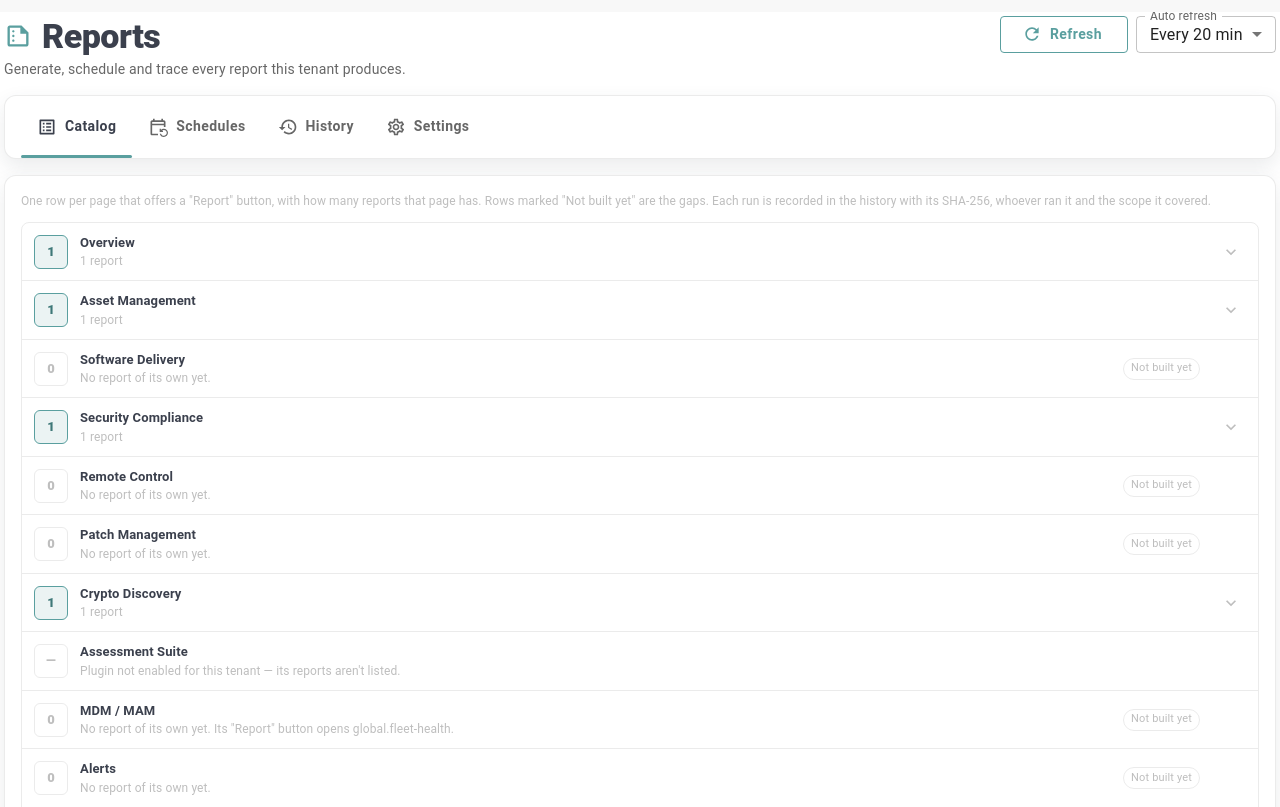
Scenario: Reports page › renders only the report types the server returns
The image size is (1280, 807).
Step 1. Click the button named "Expand Crypto Discovery" → (1231, 603), box [1216,588,1246,618]
(page scrolled)
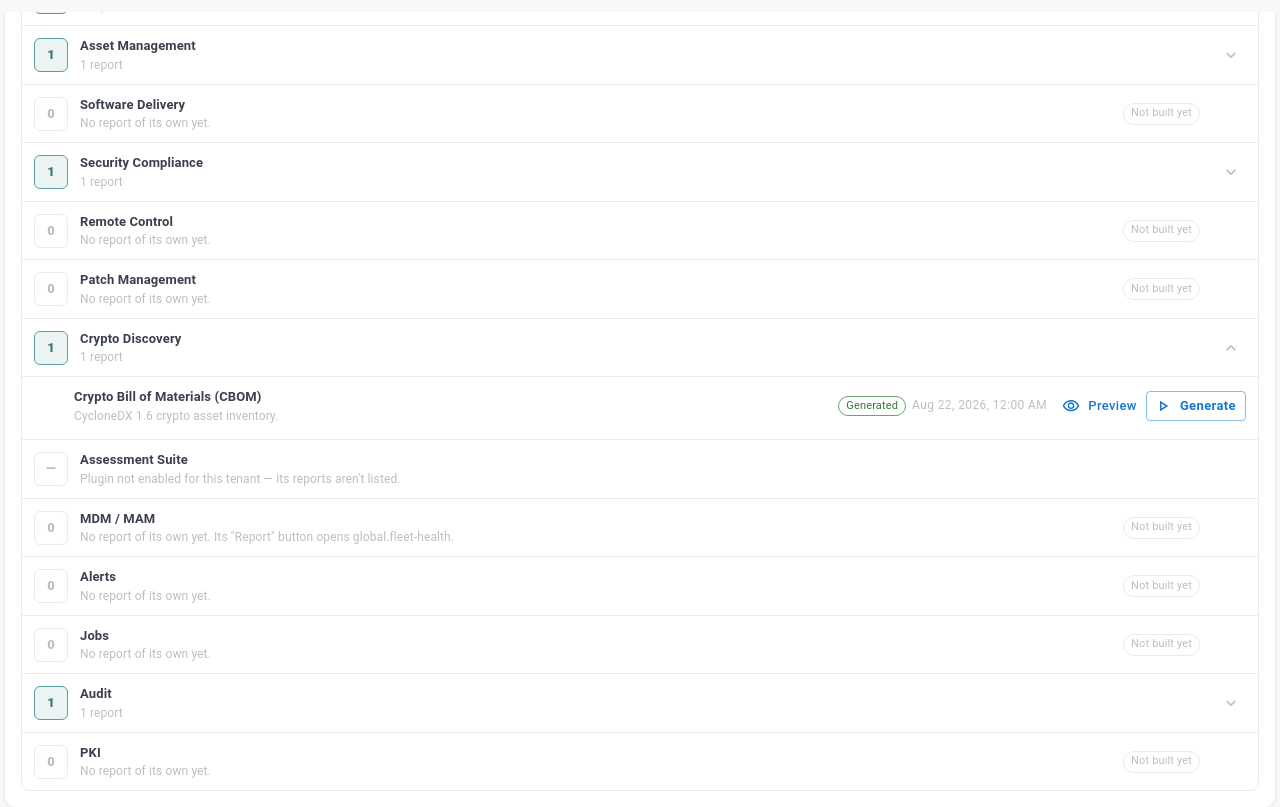
Expected: the text "Crypto Bill of Materials (CBOM)" is shown, [74,387,262,407]
Step 2. Click the button named "Expand Audit" → (1231, 703), box [1216,688,1246,718]
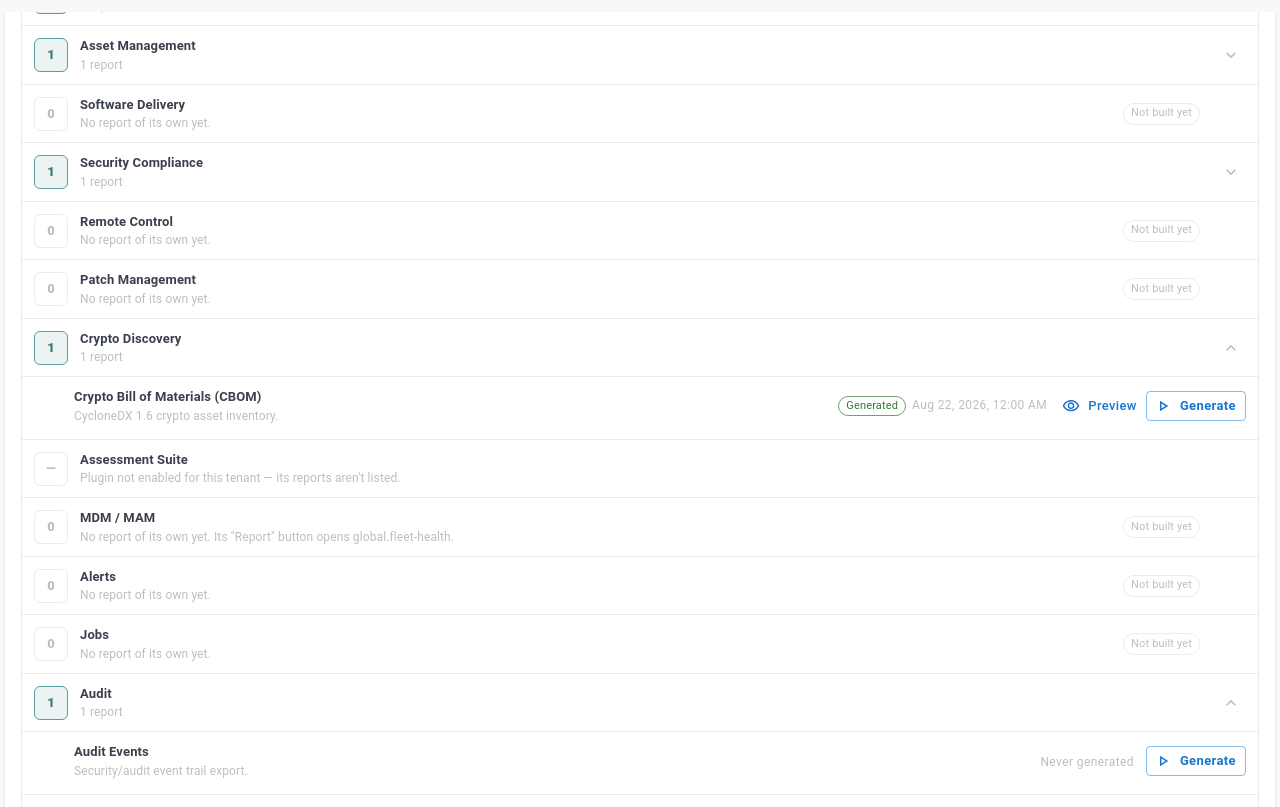
Expected: the text "Not built yet" in the row of "Patch Management" is shown, [1131,282,1192,295]
Expected: the text "Audit Events" is shown, [74,742,149,762]
